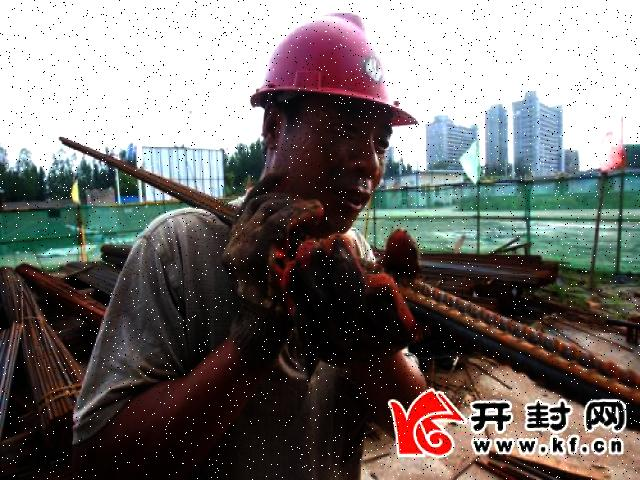Helmet: (245, 5, 421, 137)
